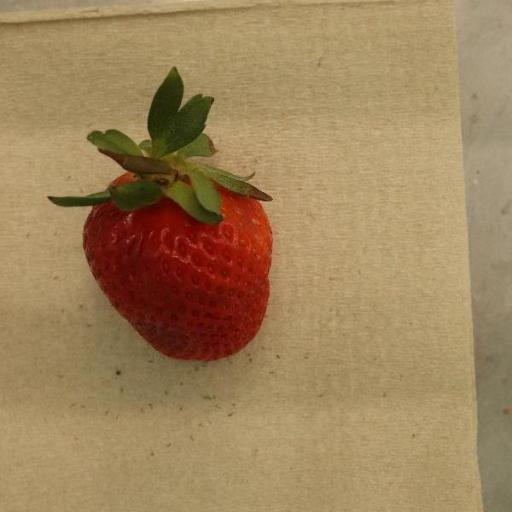Strawberry: (48, 67, 274, 362)
